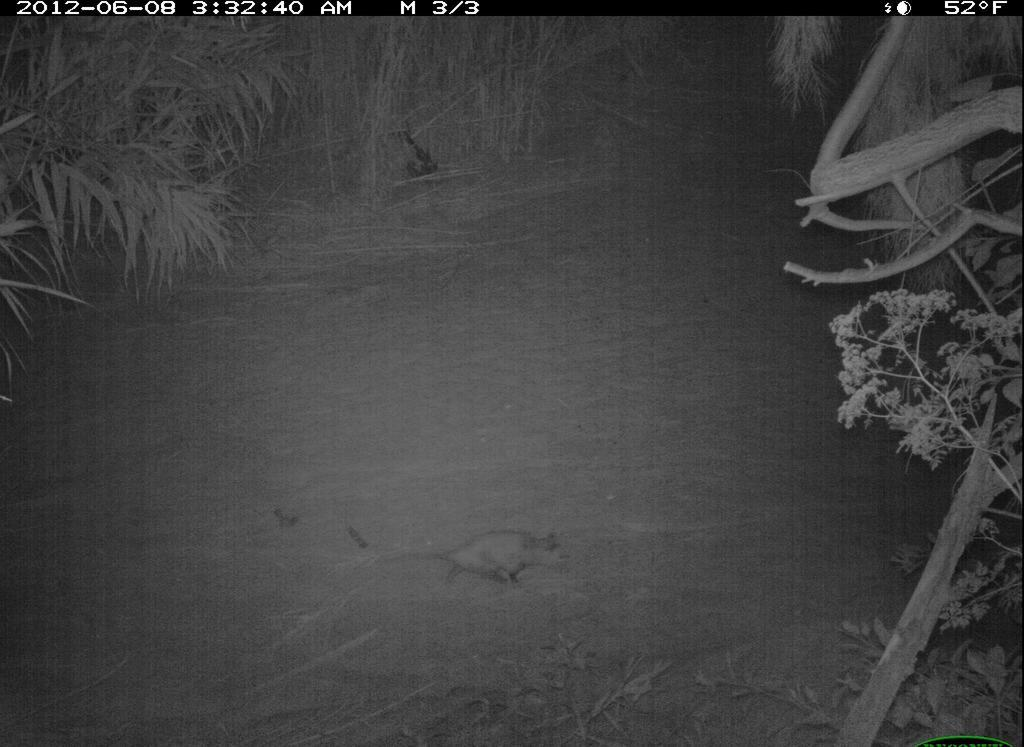opossum: (386, 528, 577, 594)
